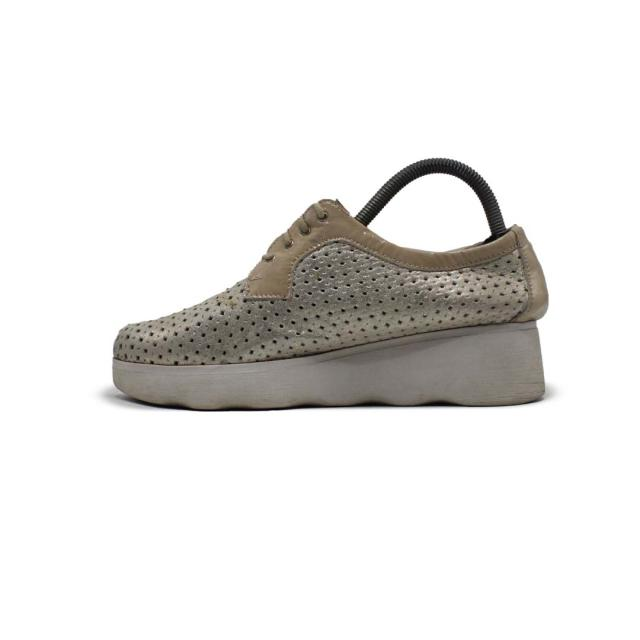heel: (513, 219, 553, 326)
midsole: (120, 322, 543, 406)
uppersole: (110, 189, 510, 363)
